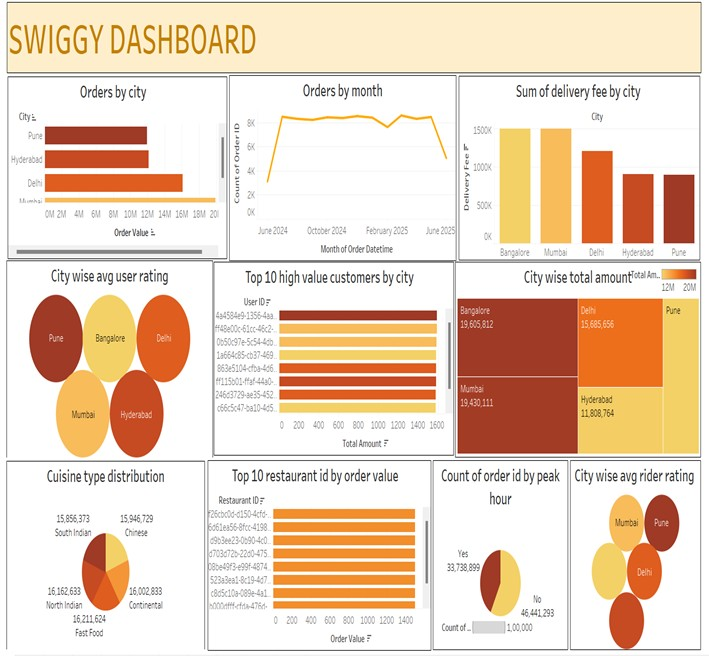

This screenshot's page, from the dashboard's own definition file:
{"tool":"tableau","page":{"name":"Dashboard 1","canvas":[1720,1160],"ordinal":0},"visuals":[{"type":"text","box":[5,4,1715,126]},{"type":"worksheet","title":"Sheet 2","mark":"Automatic","rows":["OrderID"],"cols":["OrderDatetime"],"box":[554,133,561,330]},{"type":"worksheet","title":"Sheet 3","mark":"Automatic","rows":["DeliveryFee"],"cols":["City"],"box":[1121,134,596,327]},{"type":"worksheet","title":"Sheet 1","mark":"Automatic","rows":["City"],"cols":["OrderValue"],"box":[7,135,542,324]},{"type":"worksheet","title":"Sheet 10","mark":"Circle","box":[4,461,510,350]},{"type":"worksheet","title":"Sheet 6","mark":"Automatic","rows":["UserID"],"cols":["TotalAmount"],"box":[516,464,593,344]},{"type":"worksheet","title":"Sheet 5","mark":"Automatic","box":[1112,464,607,347]},{"type":"legend","title":"Sheet 5","param":"[federated.0jja2vn1pwjt8g0zpawjo116l75y].[sum:TotalAmount:qk]","box":[1546,472,166,43]},{"type":"worksheet","title":"Sheet 9","mark":"Automatic","rows":["RestaurantID"],"cols":["OrderValue"],"box":[501,815,552,338]},{"type":"worksheet","title":"Sheet 7","mark":"Pie","box":[1057,815,334,337]},{"type":"worksheet","title":"Sheet 4","mark":"Circle","box":[1396,815,323,337]},{"type":"worksheet","title":"Sheet 8","mark":"Pie","box":[4,816,490,335]},{"type":"legend","title":"Sheet 7","param":"[federated.0jja2vn1pwjt8g0zpawjo116l75y].[cnt:OrderValue:qk]","box":[1079,1099,230,44]}]}

Visuals, with their boxes in screenshot pixels (x1, y1, x2, y2):
text: {"left": 4, "top": 72, "right": 701, "bottom": 123}
"Sheet 2" worksheet: {"left": 227, "top": 124, "right": 455, "bottom": 258}
"Sheet 3" worksheet: {"left": 458, "top": 125, "right": 700, "bottom": 258}
"Sheet 1" worksheet: {"left": 5, "top": 125, "right": 225, "bottom": 257}
"Sheet 10" worksheet (Circle marks): {"left": 3, "top": 258, "right": 211, "bottom": 400}
"Sheet 6" worksheet: {"left": 212, "top": 259, "right": 453, "bottom": 399}
"Sheet 5" worksheet: {"left": 454, "top": 259, "right": 701, "bottom": 400}
"Sheet 5" legend: {"left": 630, "top": 262, "right": 698, "bottom": 280}
"Sheet 9" worksheet: {"left": 206, "top": 401, "right": 430, "bottom": 539}
"Sheet 7" worksheet (Pie marks): {"left": 432, "top": 401, "right": 567, "bottom": 538}
"Sheet 4" worksheet (Circle marks): {"left": 569, "top": 401, "right": 701, "bottom": 538}
"Sheet 8" worksheet (Pie marks): {"left": 3, "top": 402, "right": 203, "bottom": 538}
"Sheet 7" legend: {"left": 440, "top": 517, "right": 534, "bottom": 535}
